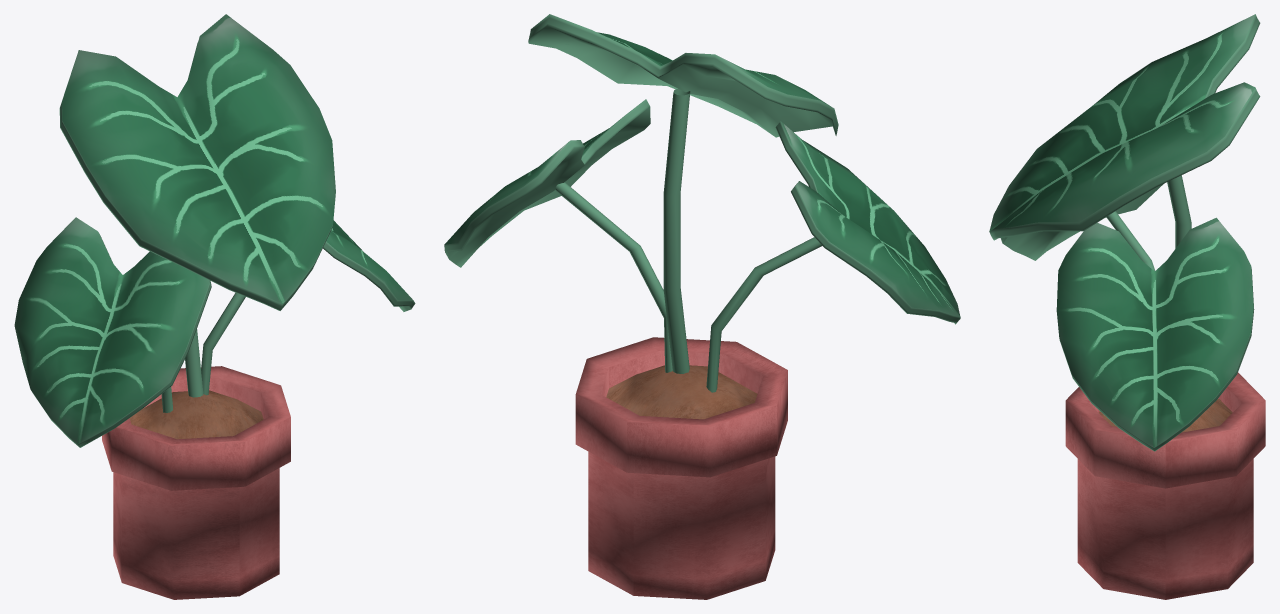
The model's file is Plant.fbx.
The picture shows the model from 3 angles, left to right: view 1: azimuth 30°, elevation 25°; view 2: azimuth 150°, elevation 25°; view 3: azimuth 270°, elevation 25°; orthographic projection. The views are drawn at different scales.
Parts seen in each view (by area): view 1: PalmTree; view 2: PalmTree; view 3: PalmTree.
Boxes of the visible parts, x1=… form: PalmTree: x1=14, y1=14, x2=415, y2=599; PalmTree: x1=444, y1=14, x2=960, y2=599; PalmTree: x1=989, y1=14, x2=1265, y2=599.
Size of the model in its own units: 237 by 280 by 137.
